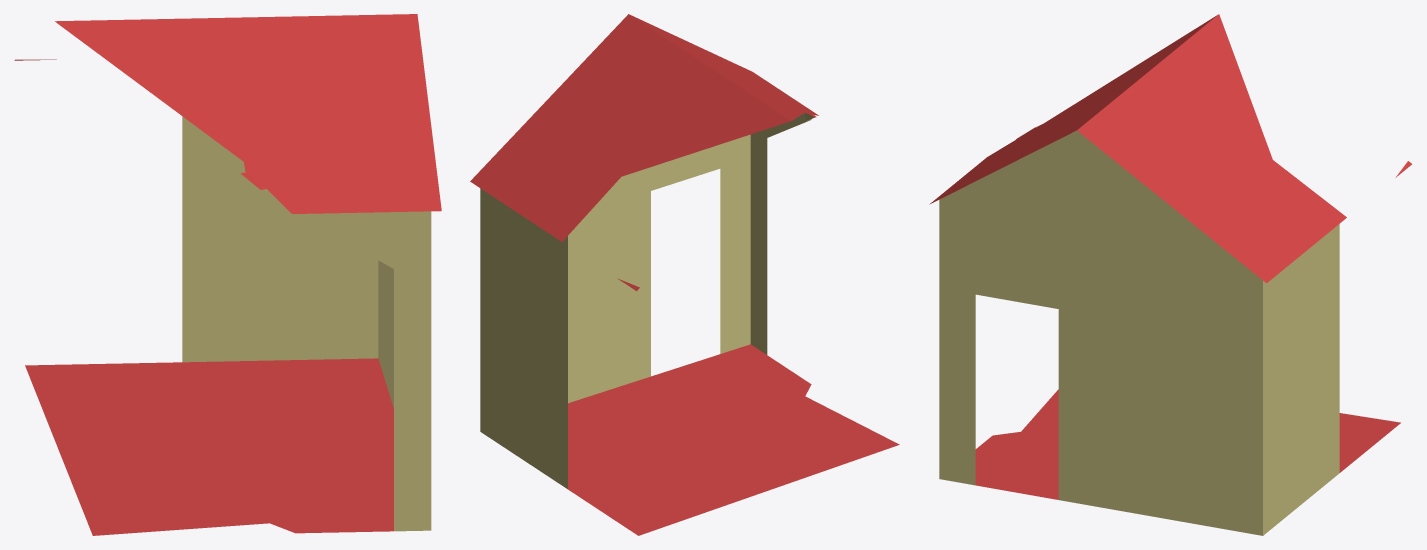
The picture shows the model from 3 angles, left to right: view 1: azimuth 30°, elevation 25°; view 2: azimuth 150°, elevation 25°; view 3: azimuth 270°, elevation 25°; orthographic projection. The views are drawn at different scales.
Size of the model in its own units: 12.73 by 15.41 by 13.22.
